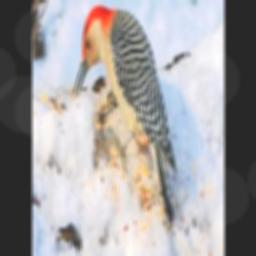Woodpecker: (73, 3, 179, 235)
